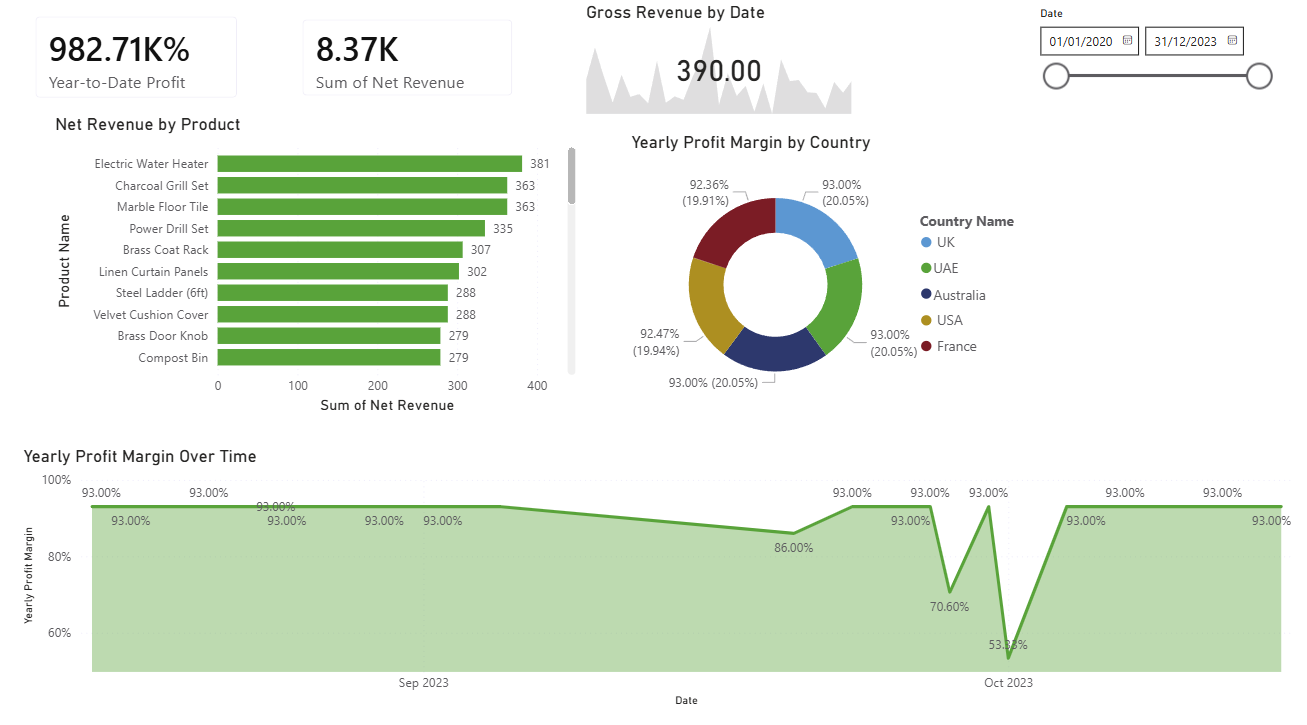

What the dashboard file says about the page in this screenshot:
{"tool":"powerbi","page":{"name":"Profit Overview","canvas":[1280,720],"ordinal":1},"visuals":[{"type":"clusteredBarChart","title":"Net Revenue by Product","fields":{"Category":["Sales in USD.Product Name"],"Y":["Sum(Sales in USD.Net Revenue)"]},"box":[52.5,116.7,516.5,295.7],"z":0},{"type":"donutChart","title":"Yearly Profit Margin by Country","fields":{"Y":["Sales in USD.Yearly Profit Margin"],"Category":["Sales in USD.Country Name"]},"box":[612.8,134.2,398.8,278.2],"z":1000},{"type":"areaChart","title":"Yearly Profit Margin Over Time","fields":{"Category":["CalendarTable.Date"],"Y":["Sales in USD.Yearly Profit Margin"]},"box":[21.4,439.6,1257.6,257.8],"z":2000},{"type":"cardVisual","fields":{"Data":["Sales in USD.Year-to-Date Profit"]},"box":[21.4,4.9,230.5,113.8],"z":3000},{"type":"cardVisual","fields":{"Data":["Sum(Sales in USD.Net Revenue)"]},"box":[281.1,7.8,238.3,108.9],"z":4000},{"type":"kpi","fields":{"TrendLine":["CalendarTable.Date"],"Indicator":["Sum(Sales in USD.Gross Revenue USD)"]},"box":[569,7.8,268.4,113.8],"z":5000},{"type":"slicer","fields":{"Values":["CalendarTable.Date"]},"box":[1002.8,7.8,247.1,102.1],"z":5001}]}

Visuals, with their boxes in screenshot pixels (x1, y1, x2, y2), scaled from the page's 1280x720 canvas onto the 1307x725 screenshot:
"Net Revenue by Product" clusteredBarChart: (x1=54, y1=118, x2=581, y2=415)
"Yearly Profit Margin by Country" donutChart: (x1=626, y1=135, x2=1033, y2=415)
"Yearly Profit Margin Over Time" areaChart: (x1=22, y1=443, x2=1306, y2=702)
cardVisual - Sales in USD.Year-to-Date Profit: (x1=22, y1=5, x2=257, y2=120)
cardVisual - Sum(Sales in USD.Net Revenue): (x1=287, y1=8, x2=530, y2=118)
kpi - CalendarTable.Date x Sum(Sales in USD.Gross Revenue USD): (x1=581, y1=8, x2=855, y2=122)
slicer - CalendarTable.Date: (x1=1024, y1=8, x2=1276, y2=111)
